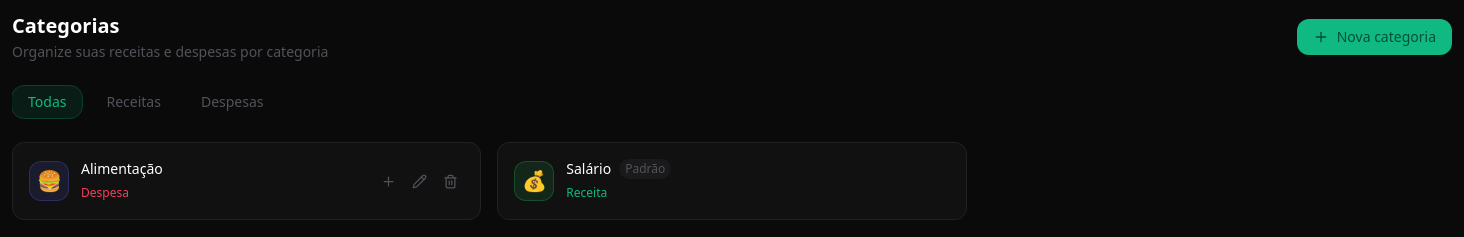
Test: CategoriesPage › deve exibir estado vazio quando não há categorias no filtro
The width and height of the screenshot is (1464, 237).
# Filtra receitas — não há nenhuma despesa cadastrada como receita aqui
Step 1. Click the button "Despesas" → coordinates (232, 102), box 185,86 -> 280,118
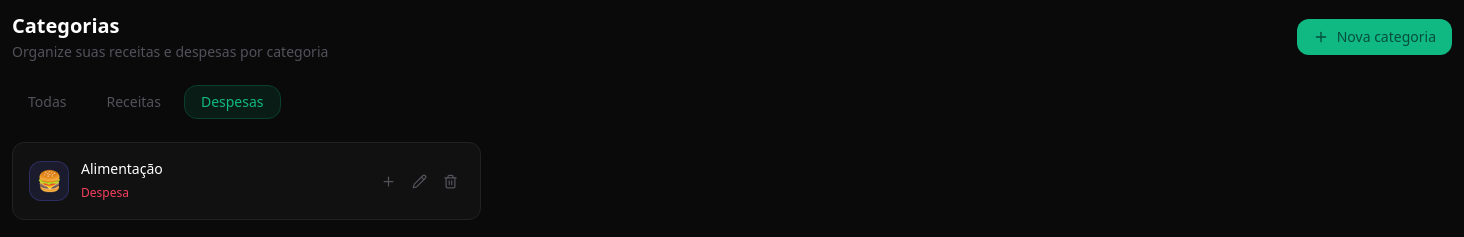
# Volta ao filtro de receitas para garantir que só Salário aparece
Step 2. Click the button "Receitas" → coordinates (134, 102), box 90,86 -> 177,118
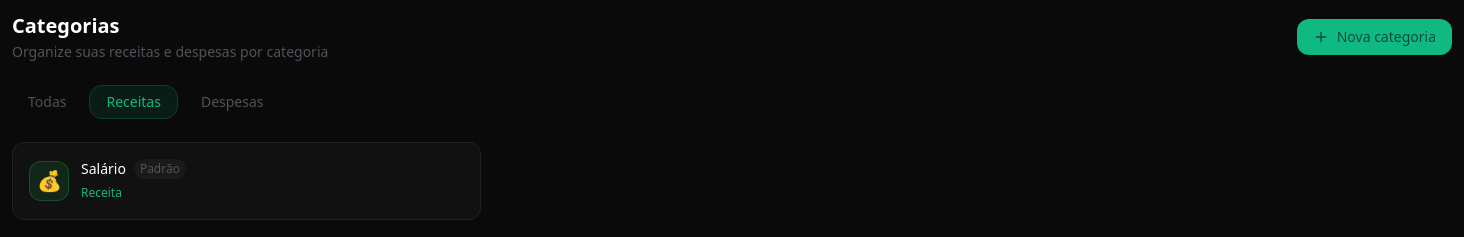
Expected: the text "Salário" is shown, 81,159 -> 126,179
